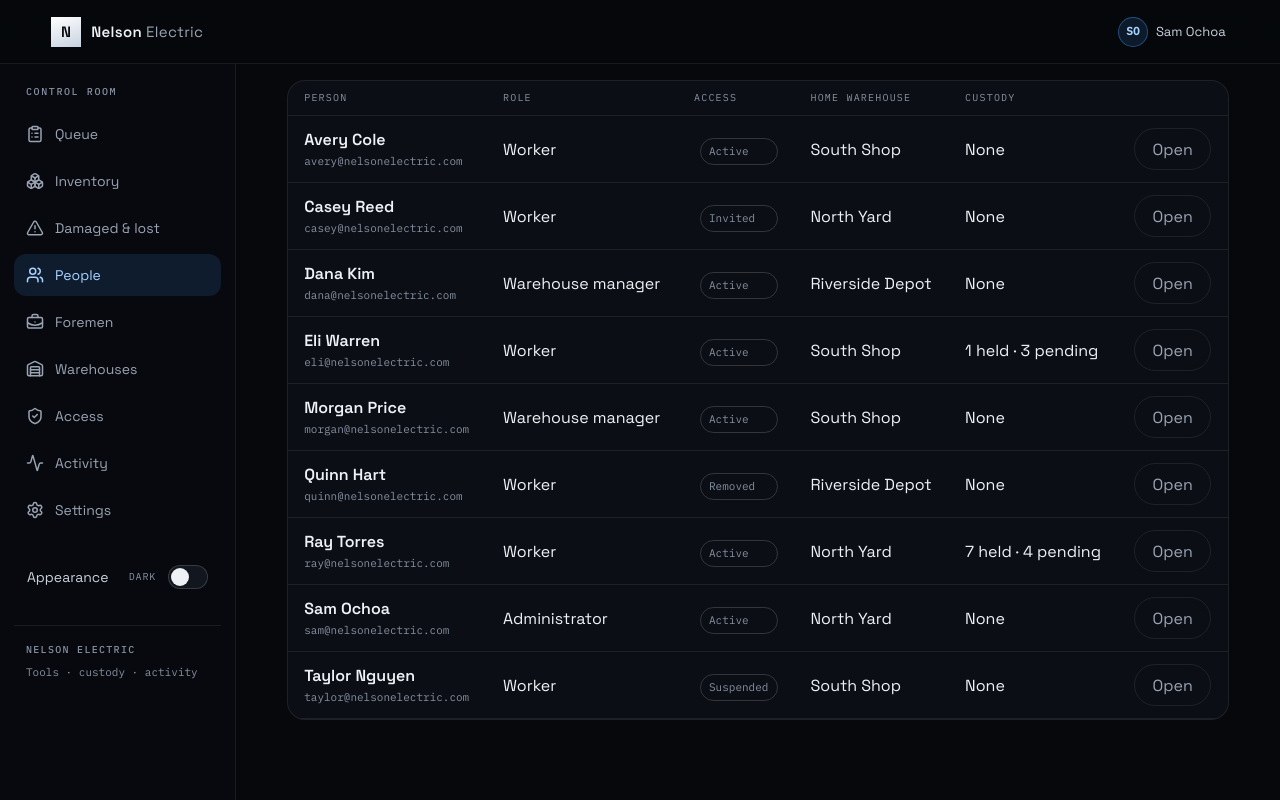
Test: admin command safety › restores a suspended person through the query-backed access command
(page scrolled)
Click the link "Taylor Nguyen". click: (360, 676)
box: [304,665,415,686]
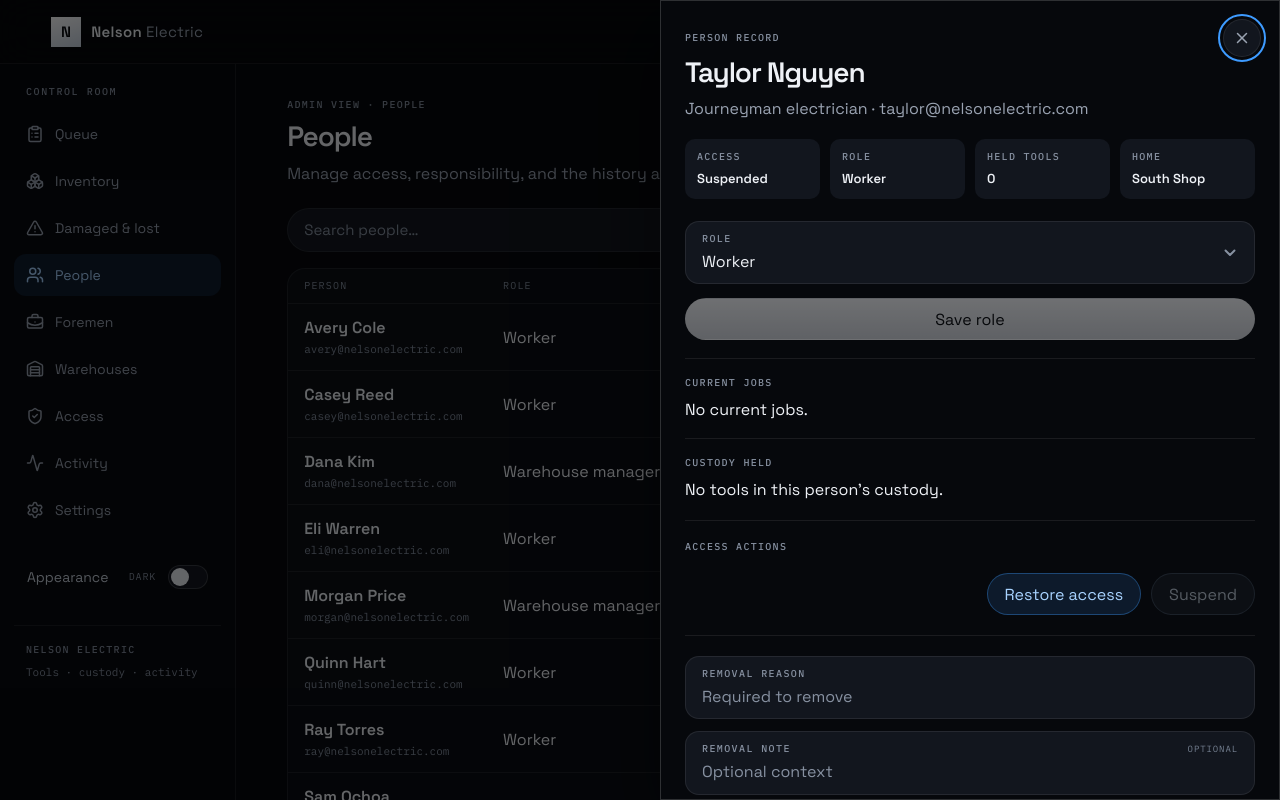
Expected: the text "Suspended" is shown, [697,170,768,187]
Click the button "Restore access". click: (1064, 594)
box: [986,573,1141,615]
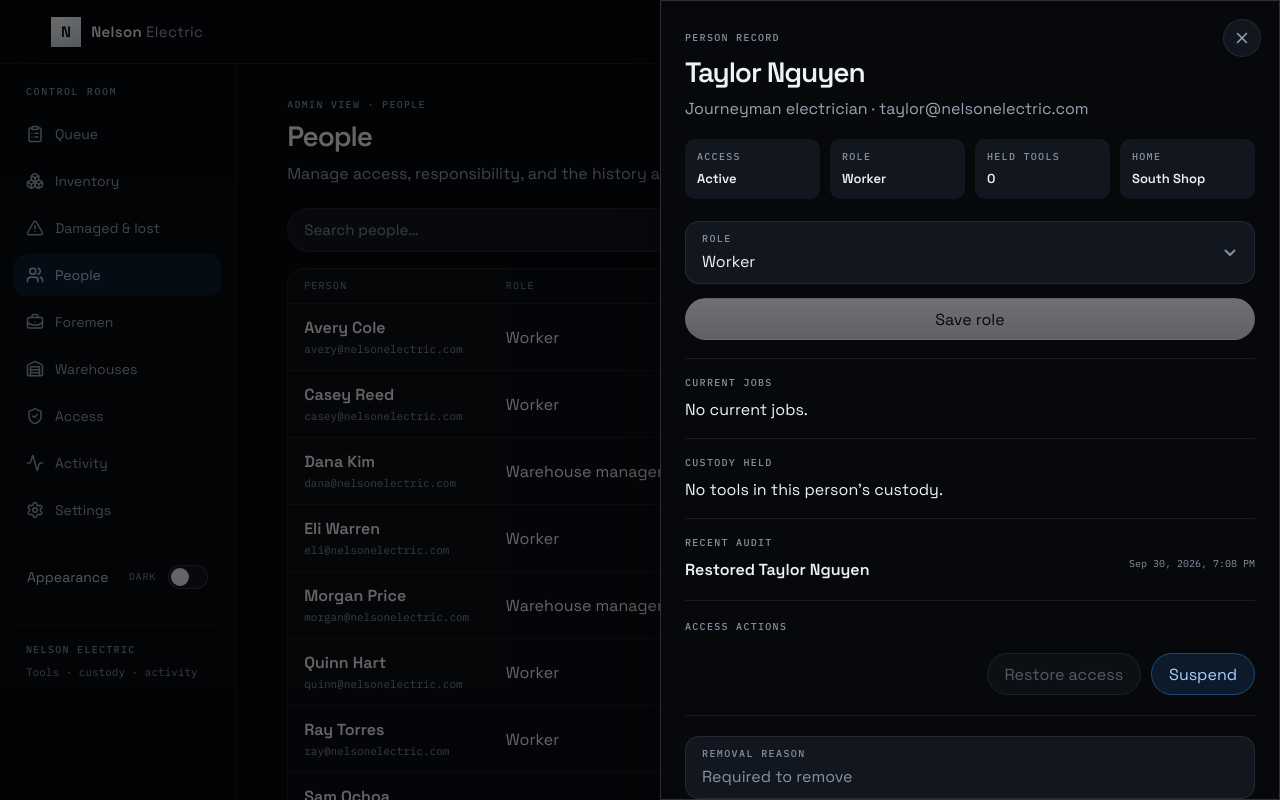
Expected: the text "Active" is shown, [697,170,736,187]
